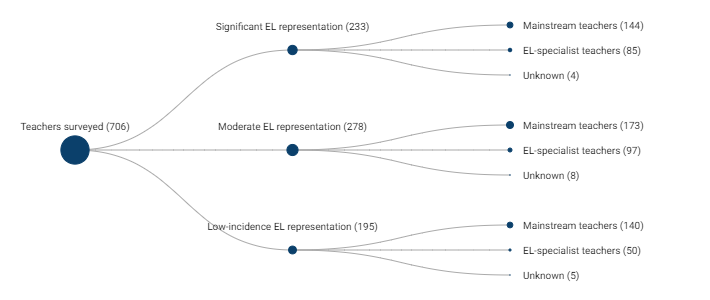

What the dashboard file says about the page in this screenshot:
{"tool":"tableau","page":{"name":"Dashboard","canvas":[850,1100],"ordinal":0},"visuals":[{"type":"text","box":[8,8,834,105]},{"type":"legend","title":"Plot","param":"[federated.1gklkj7067miao15yt4id1prvzms].[attr:Calculation_1027665208344854535:n","box":[8,113,834,32]},{"type":"worksheet","title":"Plot","mark":"Circle","rows":["Calculation_1027665208343347206"],"box":[8,145,834,878]},{"type":"text","box":[8,1023,834,69]}]}

Visuals, with their boxes on the page's 850x1100 design canvas (x1, y1, x2, y2). These are canvas units, not pixel positions in the 710x300 screenshot, which may show the page scaled, cropped or inside an application window:
text: (left=8, top=8, right=842, bottom=113)
"Plot" legend: (left=8, top=113, right=842, bottom=145)
"Plot" worksheet (Circle marks): (left=8, top=145, right=842, bottom=1023)
text: (left=8, top=1023, right=842, bottom=1092)
